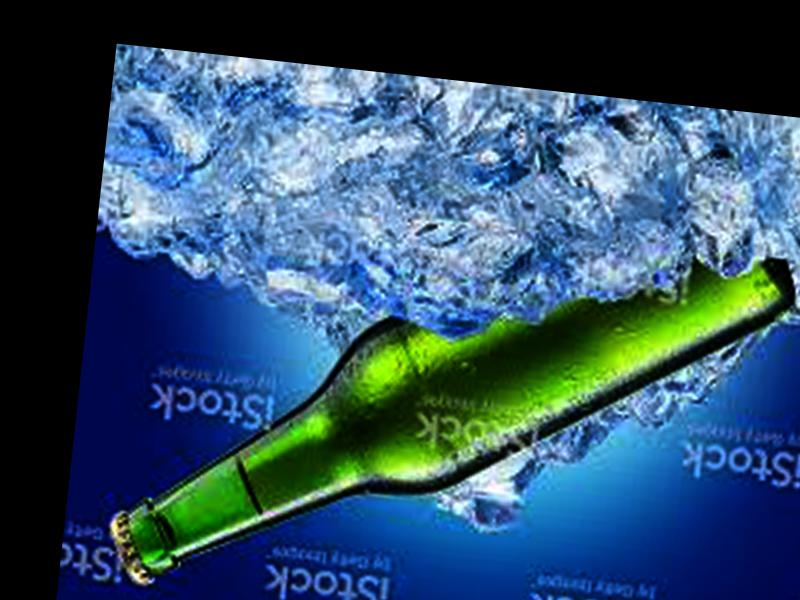Beer: (96, 189, 800, 600)
